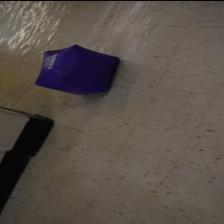cube: (34, 44, 119, 94)
